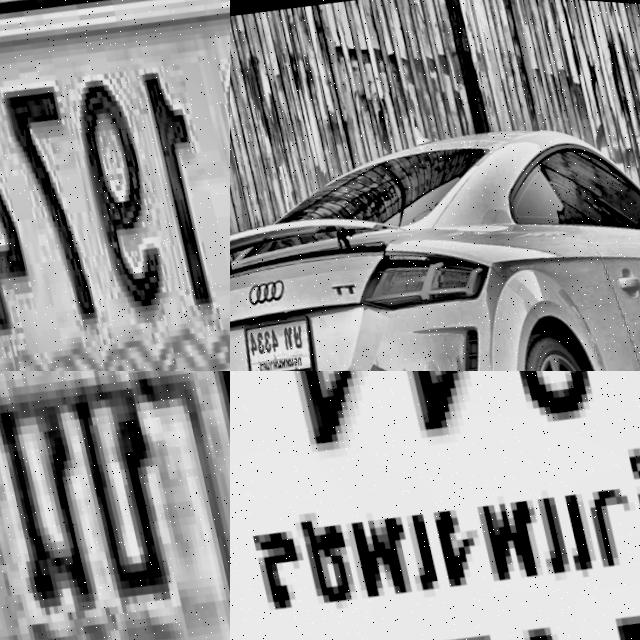license-plate: (230, 371, 640, 640), (0, 0, 230, 371), (0, 371, 230, 640), (233, 308, 321, 371)
